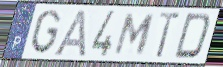4: (89, 9, 117, 59)
A: (50, 8, 88, 58)
D: (172, 12, 213, 61)
G: (28, 9, 62, 56)
M: (112, 12, 157, 57)
T: (155, 10, 183, 60)
